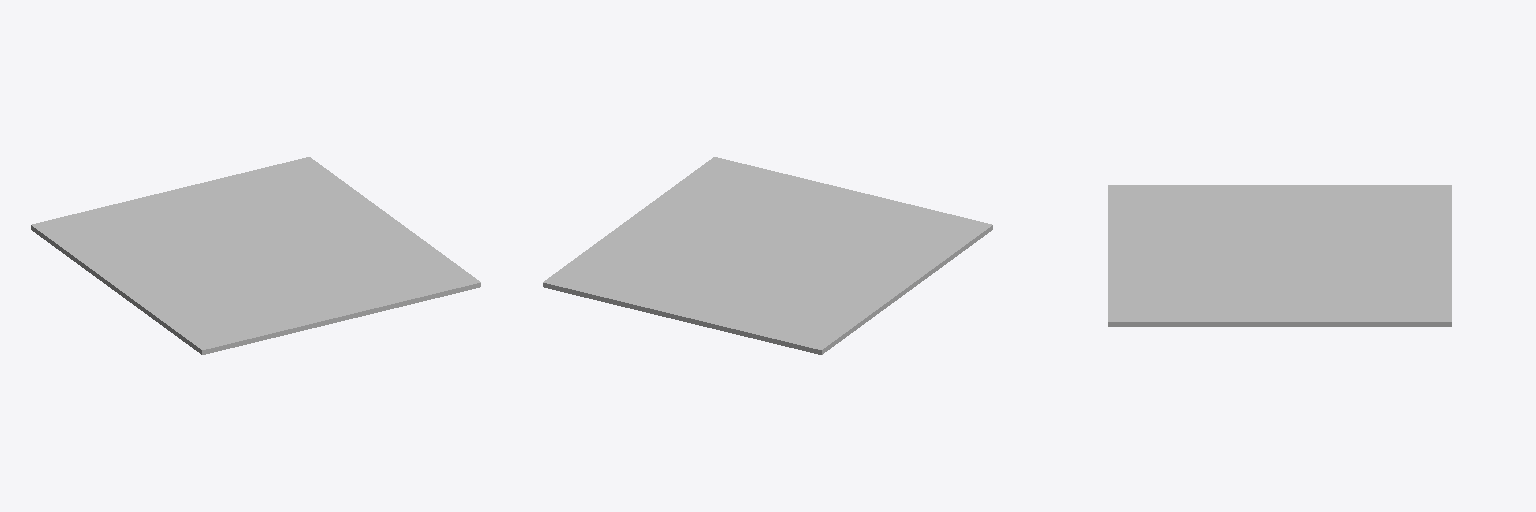
The model's file is road.obj.
3 views of the same model, side by side, from view 1: azimuth 30°, elevation 25°; view 2: azimuth 150°, elevation 25°; view 3: azimuth 270°, elevation 25° (orthographic).
Visible parts, largest first — view 1: object 1; view 2: object 1; view 3: object 1.
Part boxes in pixels (x1,y1,x2,y2): object 1: (31, 157, 480, 354); object 1: (543, 157, 992, 354); object 1: (1108, 185, 1451, 326).
Size of the model in its own units: 6 by 0.1 by 6.4.